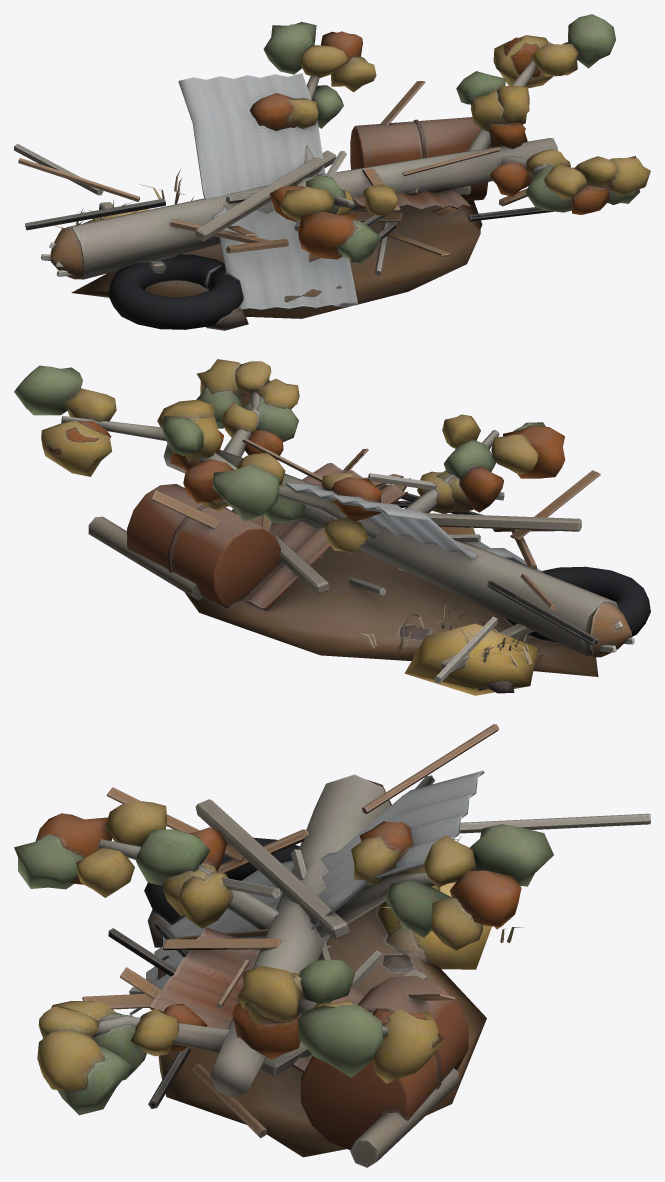
File: debris_pile.glb
3 renders of one model, top to bottom at view 1: azimuth 30°, elevation 25°; view 2: azimuth 150°, elevation 25°; view 3: azimuth 270°, elevation 25°, orthographic. The views are drawn at different scales.
Visible parts, largest first — view 1: debris_pile; view 2: debris_pile; view 3: debris_pile.
Boxes of the visible parts, <box> form: debris_pile: <box>14,14,650,330</box>; debris_pile: <box>14,359,650,695</box>; debris_pile: <box>14,724,650,1167</box>.
Size of the model in its own units: 4.49 by 1.42 by 3.12.
1 material, 1 textured.
